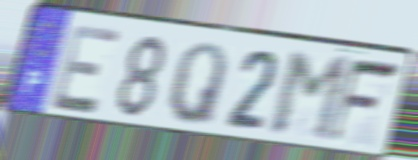2: (222, 47, 281, 134)
8: (113, 32, 170, 121)
E: (48, 21, 126, 117)
F: (325, 56, 404, 148)
M: (267, 51, 353, 145)
Q: (164, 39, 230, 130)
